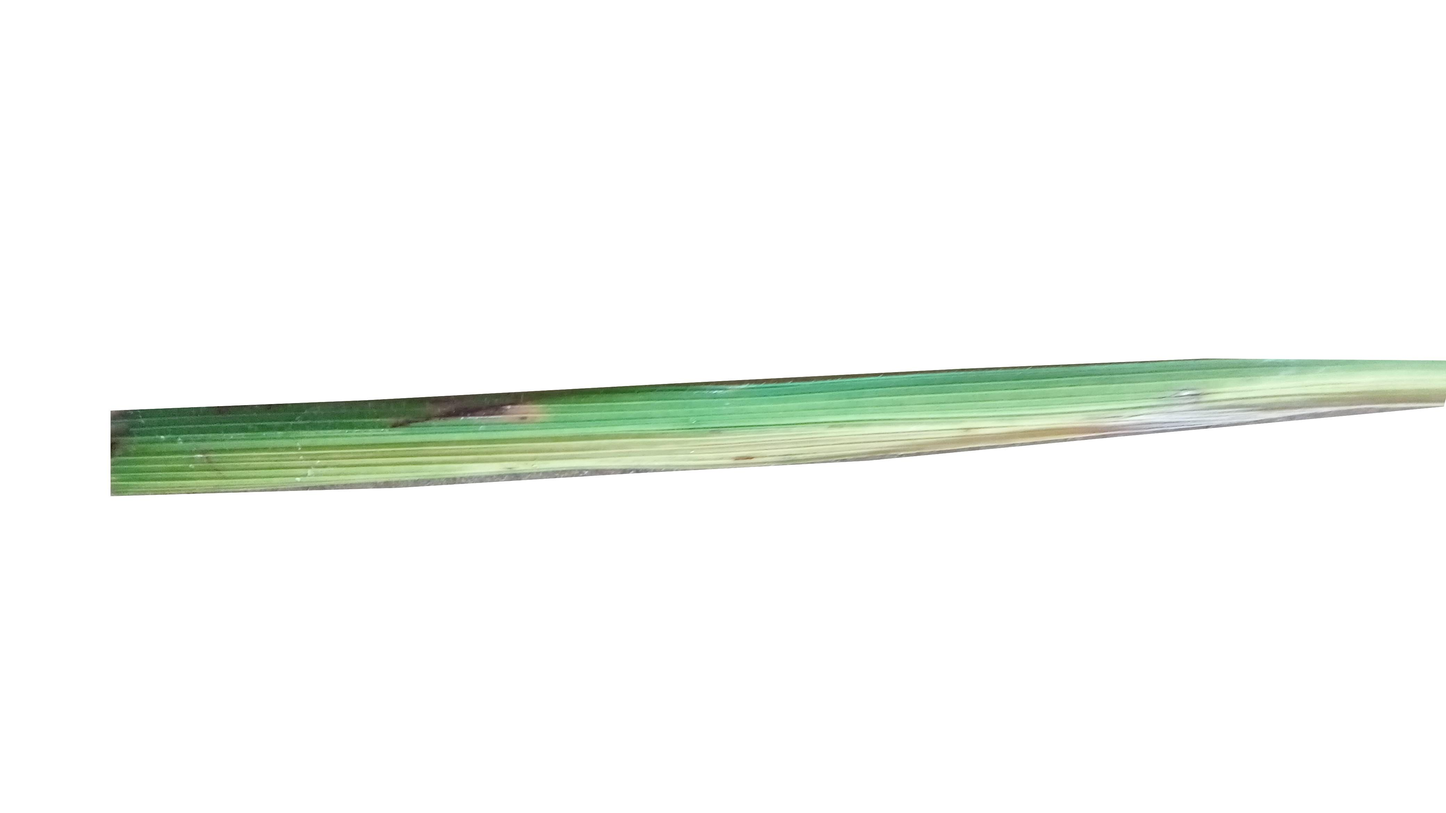Rice blast: (370, 389, 567, 424)
